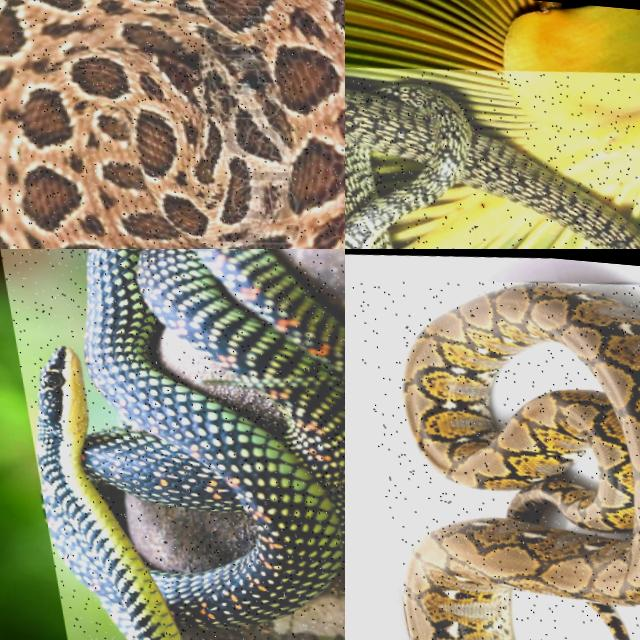Chrysopelea ornata: (37, 249, 344, 639), (345, 85, 639, 248)
Daboia siamensis: (0, 0, 344, 248)
Malayopython reticulatus: (403, 282, 639, 639)
